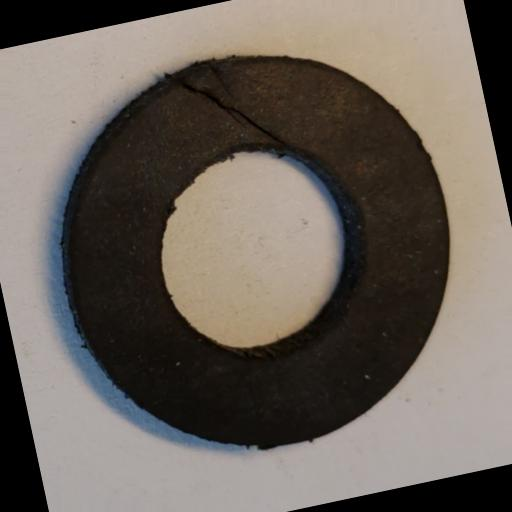defect: (162, 46, 296, 176)
